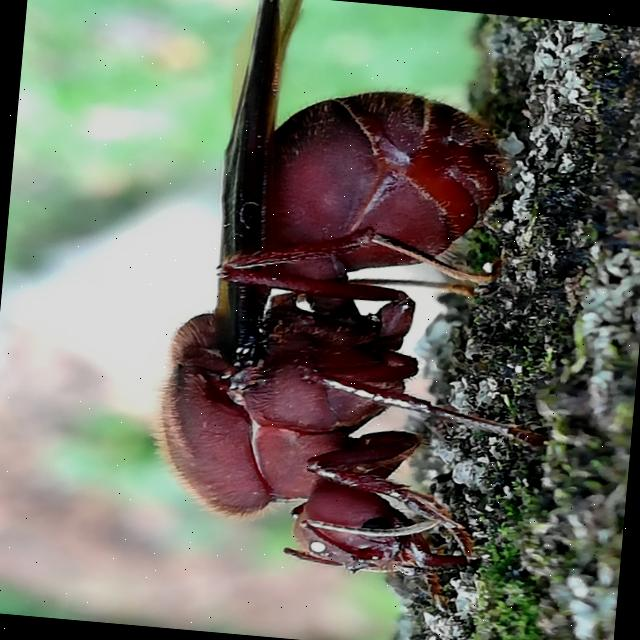Alive-Female-Alate: (138, 0, 583, 621)
